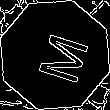M_W: (24, 25, 86, 85)
